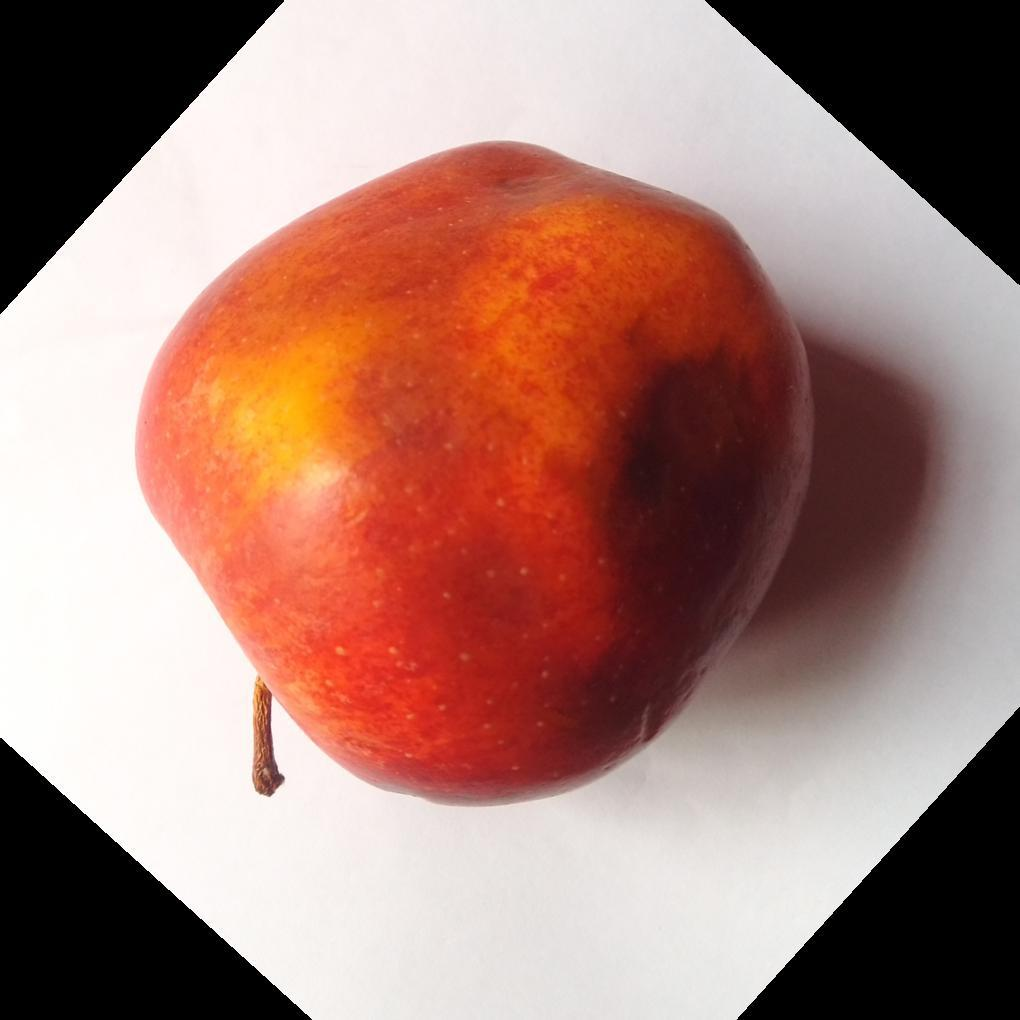FreshOrange: (133, 142, 816, 810)
